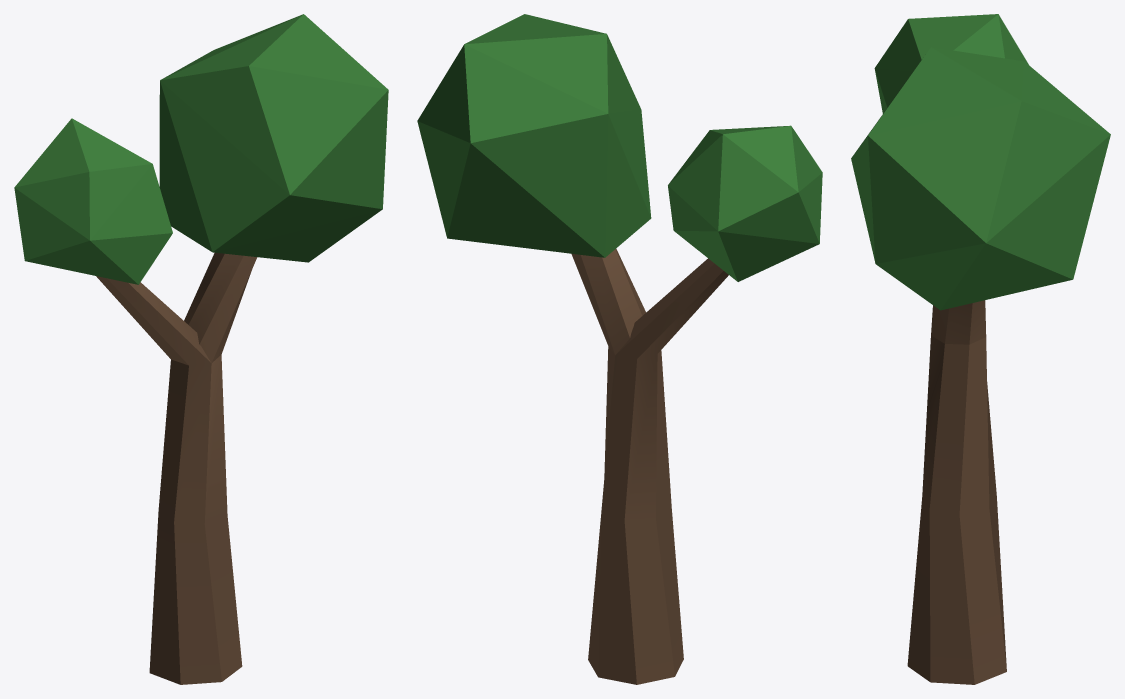
File: Tree_2a.fbx
3 renders of one model, left to right at view 1: azimuth 30°, elevation 25°; view 2: azimuth 150°, elevation 25°; view 3: azimuth 270°, elevation 25°, orthographic. The views are drawn at different scales.
Visible parts, largest first — view 1: polySurface4, polySurface1, polySurface3, polySurface2; view 2: polySurface4, polySurface1, polySurface3, polySurface2; view 3: polySurface4, polySurface1, polySurface3, polySurface2.
Boxes of the visible parts, x1,y1,x2,y2 form: polySurface4: [159, 14, 388, 262]; polySurface1: [96, 276, 242, 684]; polySurface3: [14, 118, 172, 284]; polySurface2: [184, 252, 257, 363]; polySurface4: [417, 14, 651, 257]; polySurface1: [588, 258, 728, 684]; polySurface3: [668, 125, 822, 281]; polySurface2: [571, 249, 645, 354]; polySurface4: [851, 47, 1110, 310]; polySurface1: [907, 305, 1006, 684]; polySurface3: [874, 14, 1028, 113]; polySurface2: [931, 300, 986, 344].
Size of the model in its own units: 2.54 by 3.86 by 1.42.
